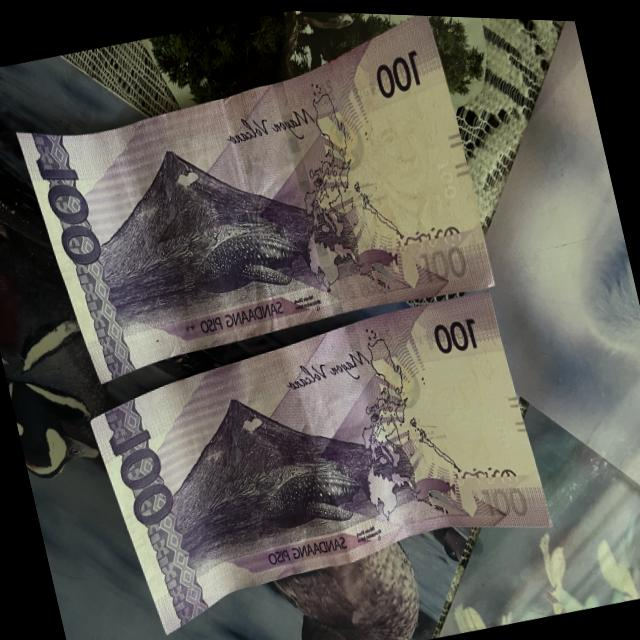100_whale: (174, 187, 338, 317), (243, 440, 403, 557)
100_whale_watermark: (341, 232, 414, 300), (395, 457, 464, 519)
value_watermark: (427, 145, 468, 211)
watermark: (331, 53, 467, 267), (384, 319, 521, 504)
